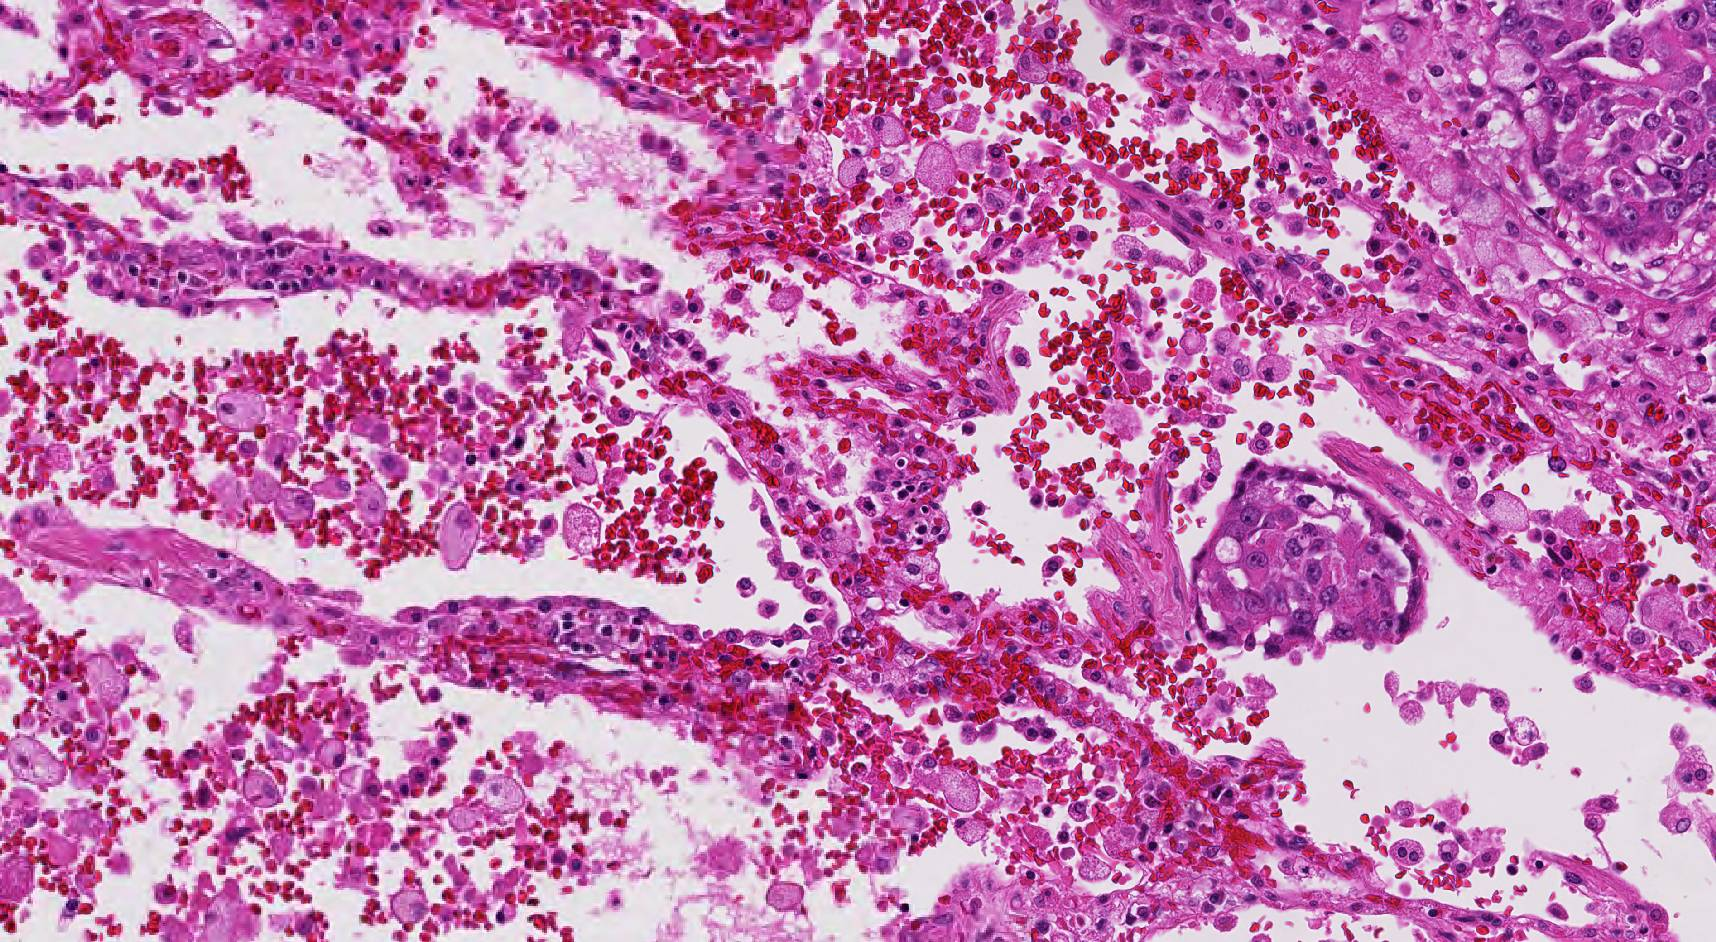stas: (1190, 459, 1429, 660)
